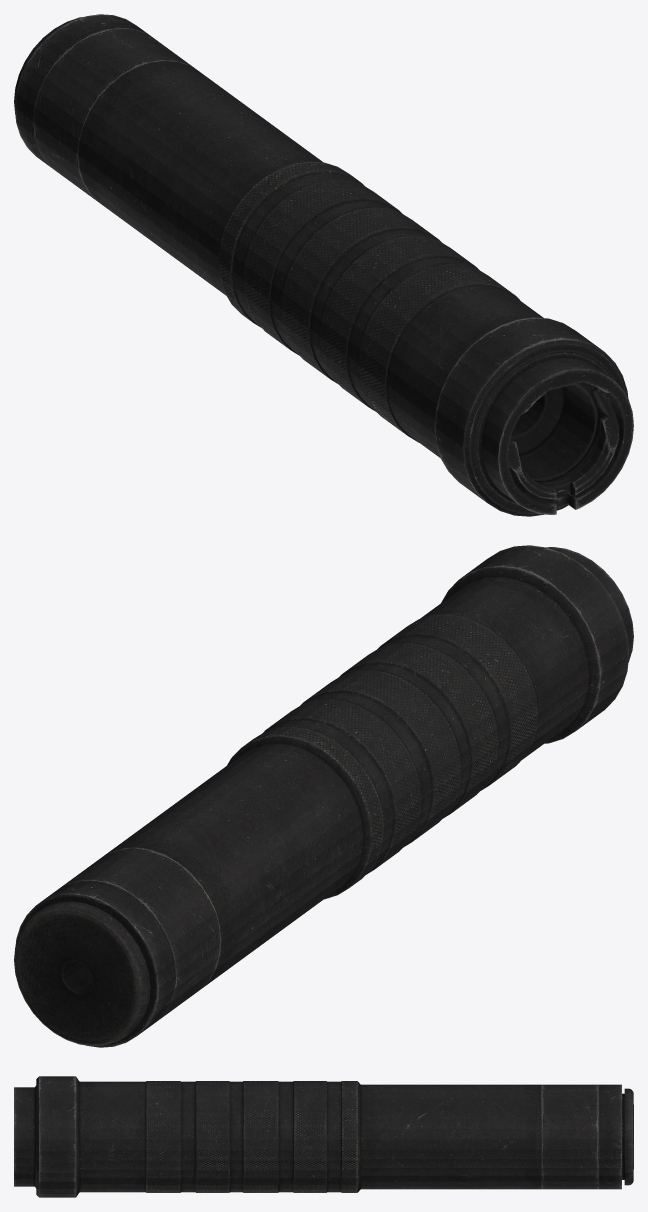
The picture shows the model from 3 angles, top to bottom: view 1: azimuth 30°, elevation 25°; view 2: azimuth 150°, elevation 25°; view 3: azimuth 270°, elevation 25°; orthographic projection. The views are drawn at different scales.
Parts seen in each view (by area): view 1: TW_64c196ad26a15b84aa07132f_PZ_Import; view 2: TW_64c196ad26a15b84aa07132f_PZ_Import; view 3: TW_64c196ad26a15b84aa07132f_PZ_Import.
Boxes of the visible parts, box(x1,y1,x2,y2) form: TW_64c196ad26a15b84aa07132f_PZ_Import: box(14, 14, 633, 516); TW_64c196ad26a15b84aa07132f_PZ_Import: box(14, 545, 633, 1047); TW_64c196ad26a15b84aa07132f_PZ_Import: box(14, 1076, 633, 1197).
Size of the model in its own units: 0.0257 by 0.1313 by 0.0257.
1 material, 1 textured.
